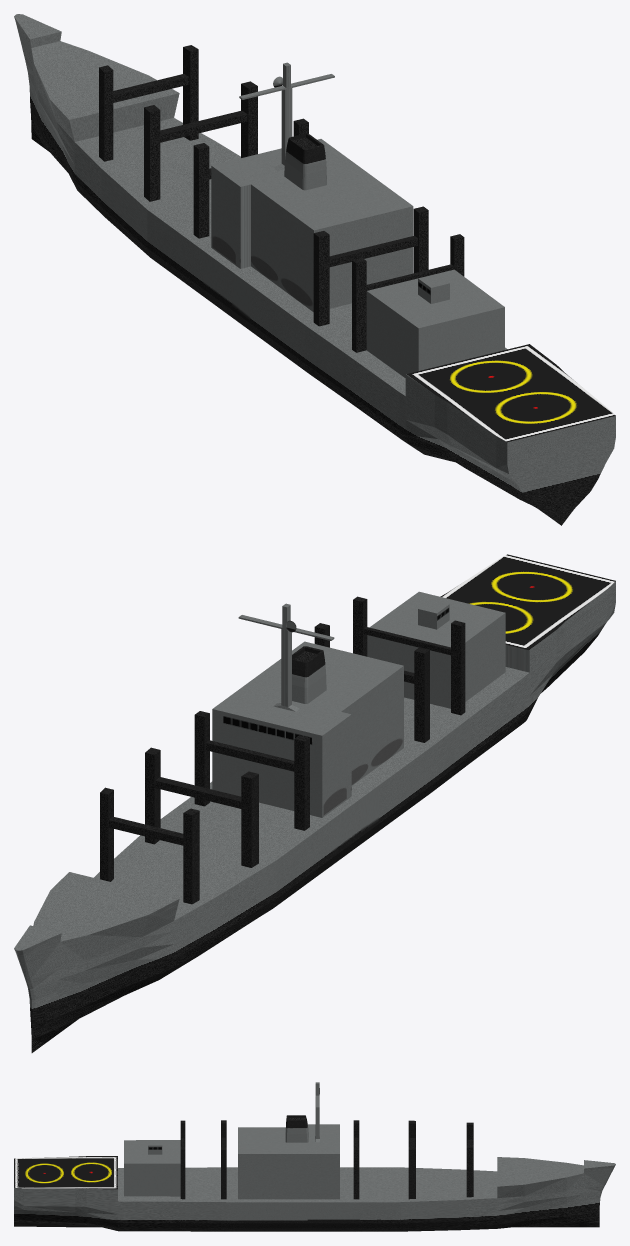
The model's file is afs.obj.
3 views of the same model, one above another, from view 1: azimuth 30°, elevation 25°; view 2: azimuth 150°, elevation 25°; view 3: azimuth 270°, elevation 25° (orthographic). The views are drawn at different scales.
Visible parts, largest first — view 1: Cone; view 2: Cone; view 3: Cone.
Part boxes in pixels (box(x1,y1,x2,y2)): Cone: box(14, 14, 615, 525); Cone: box(14, 554, 615, 1052); Cone: box(14, 1082, 615, 1231).
Size of the model in its own units: 24 by 46.41 by 175.
